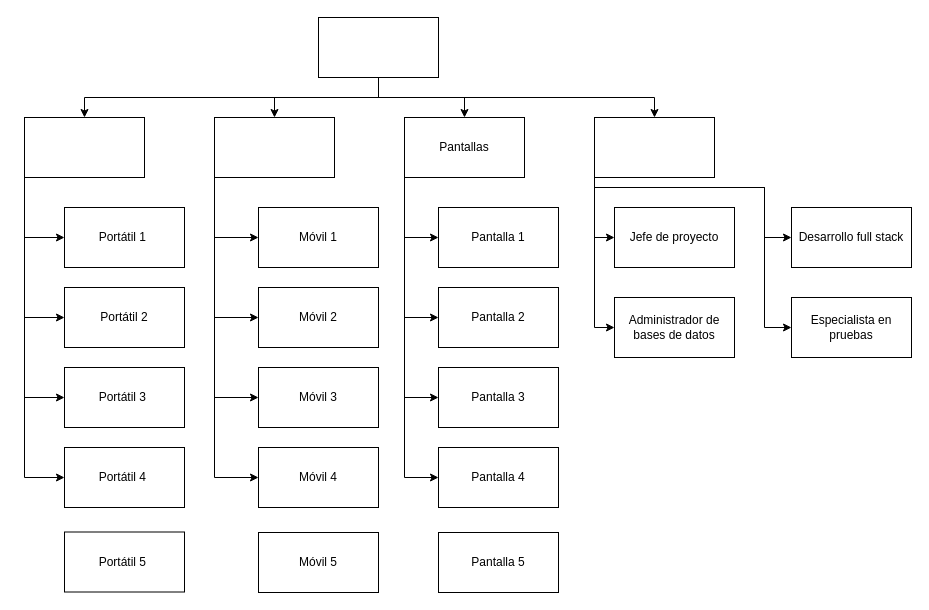
Image size: 929x610. Some labels were removed from this diagram. The centre of each missing label's shape, as x and y in pixels:
Móviles: (274,147)
Portátiles: (84,147)
Proyecto: (378,47)
Recursos humanos: (654,147)
